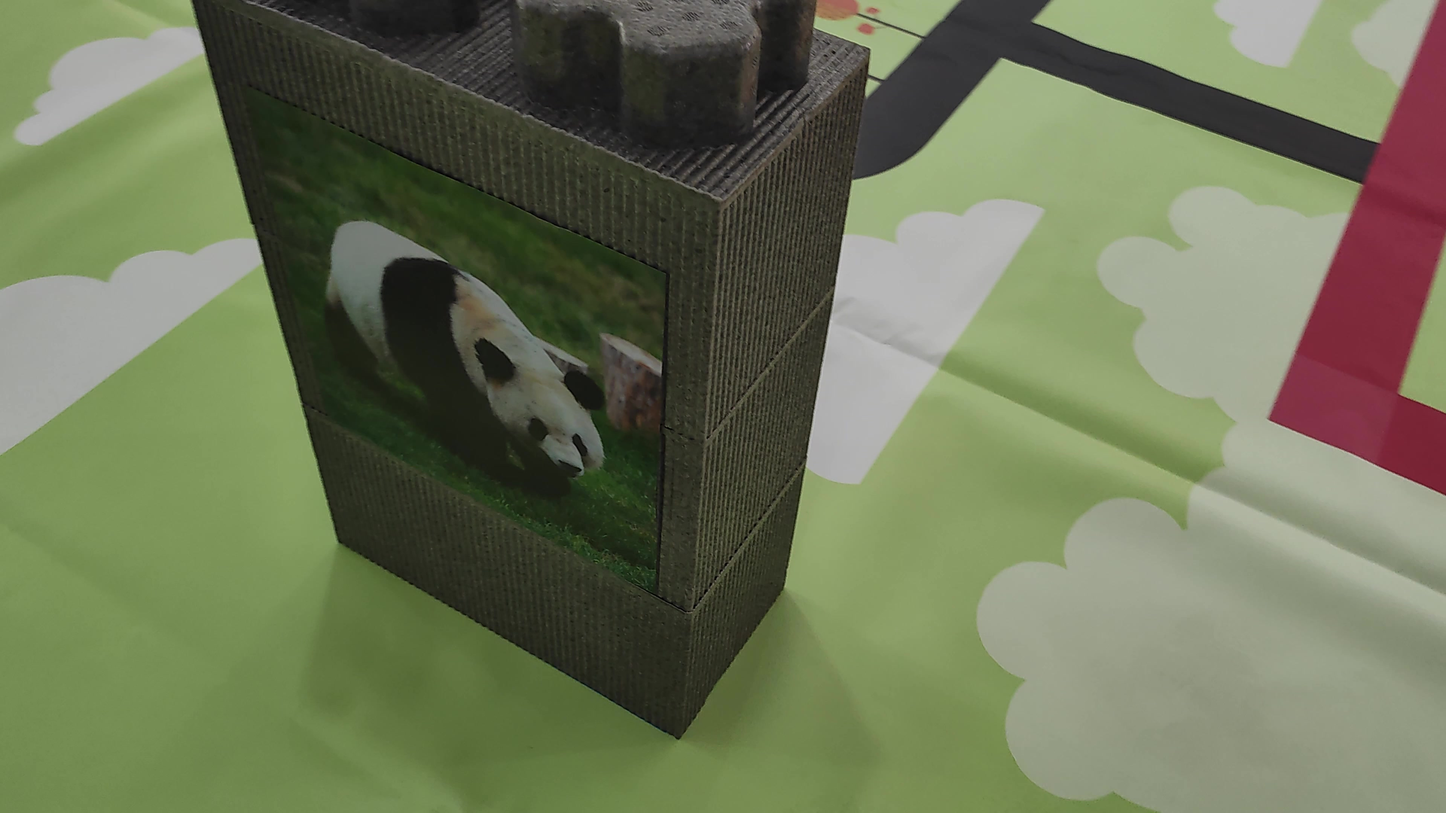panda: (290, 177, 623, 517)
